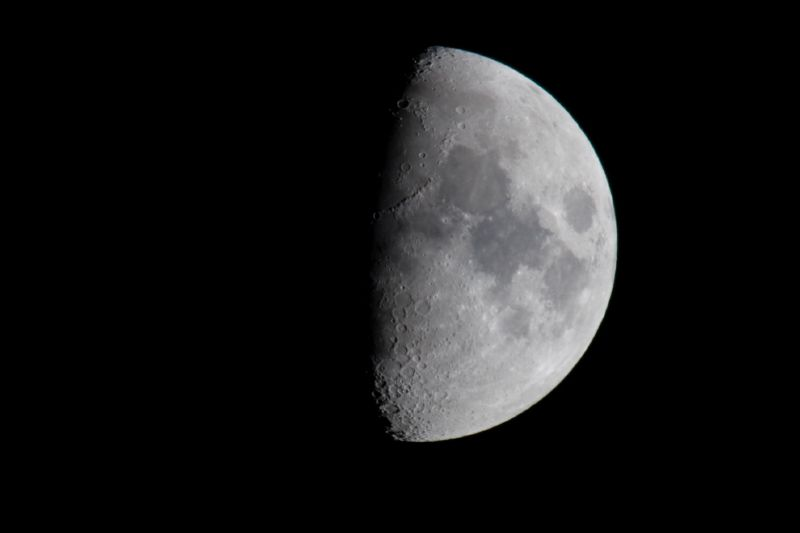crater: (391, 92, 418, 115), (412, 295, 435, 319), (416, 56, 443, 75), (433, 210, 456, 230), (450, 97, 476, 114), (454, 119, 479, 134), (399, 160, 417, 176), (516, 90, 532, 107), (502, 110, 519, 125), (415, 360, 431, 373), (443, 250, 458, 261), (396, 281, 411, 292)
